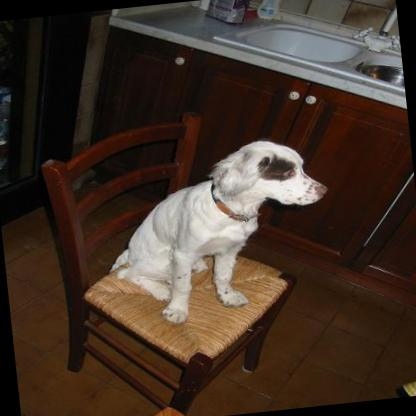English_setter: (98, 132, 337, 330)
